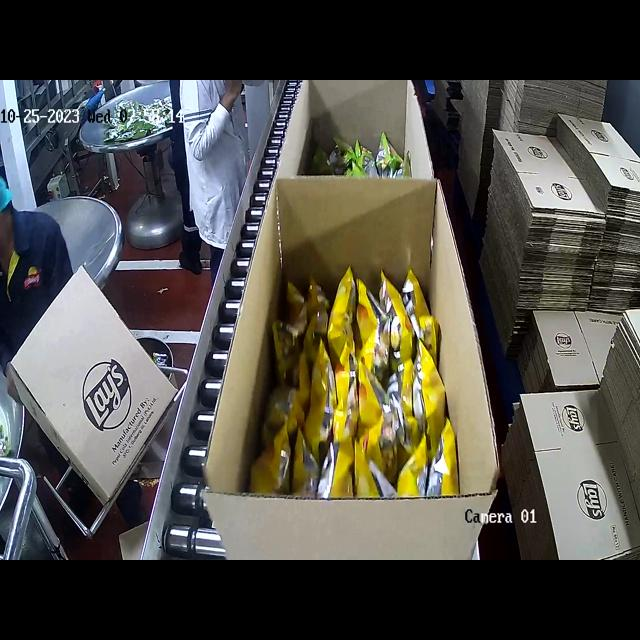salted: (258, 240, 460, 510)
yogurt: (323, 134, 408, 177)
